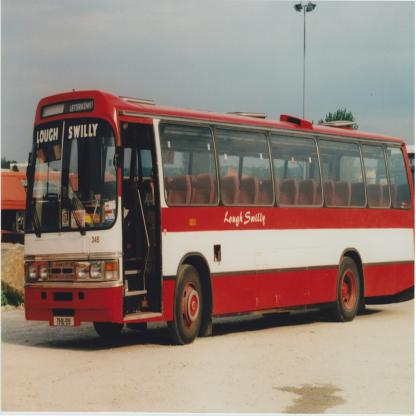Bus: (24, 88, 414, 345)
